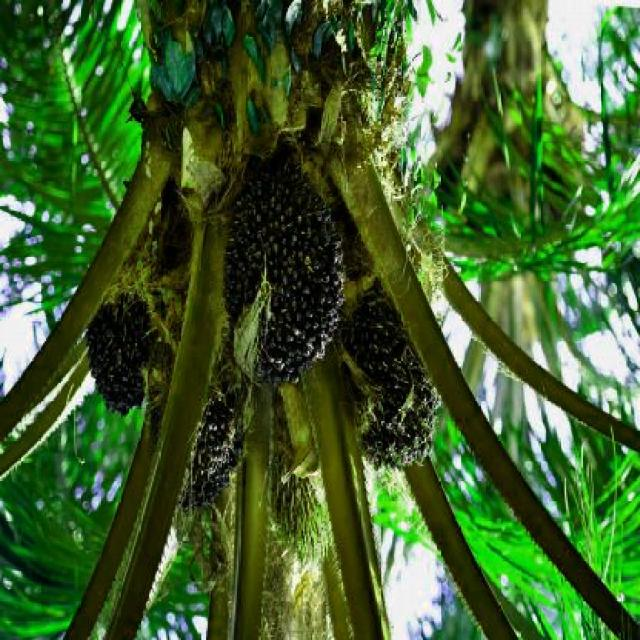palm-oil: (352, 297, 451, 468), (268, 158, 345, 373), (181, 353, 248, 505), (92, 299, 160, 415)
